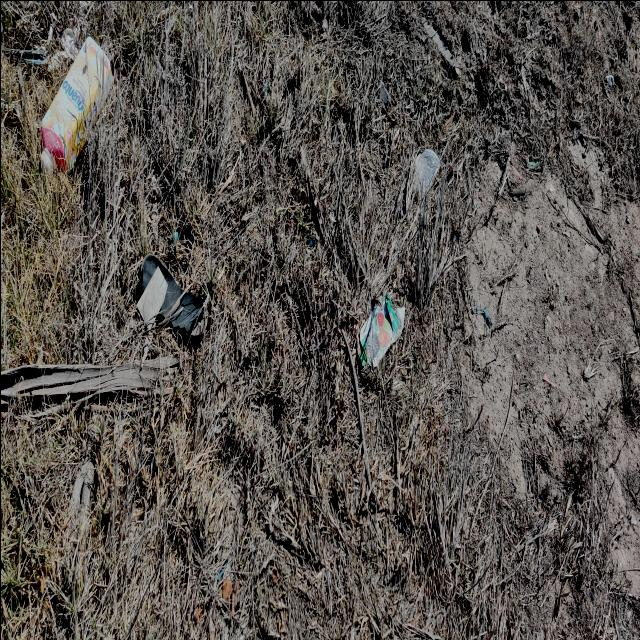Clear plastic bottle: (412, 148, 439, 197)
Other plastic container: (40, 35, 113, 175)
Plastic bottle cap: (40, 150, 52, 174)
Squeezable tube: (357, 293, 399, 366)
Unlabeled litter: (139, 252, 207, 339), (136, 264, 167, 329), (47, 26, 80, 71), (390, 306, 403, 344), (481, 307, 491, 329), (170, 232, 179, 253), (217, 561, 226, 580), (528, 160, 538, 166), (473, 305, 478, 309)
